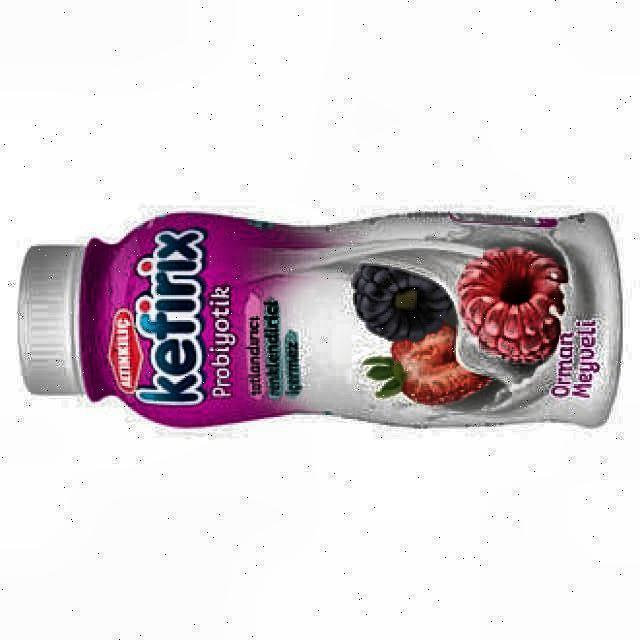plastic: (18, 212, 621, 427)
